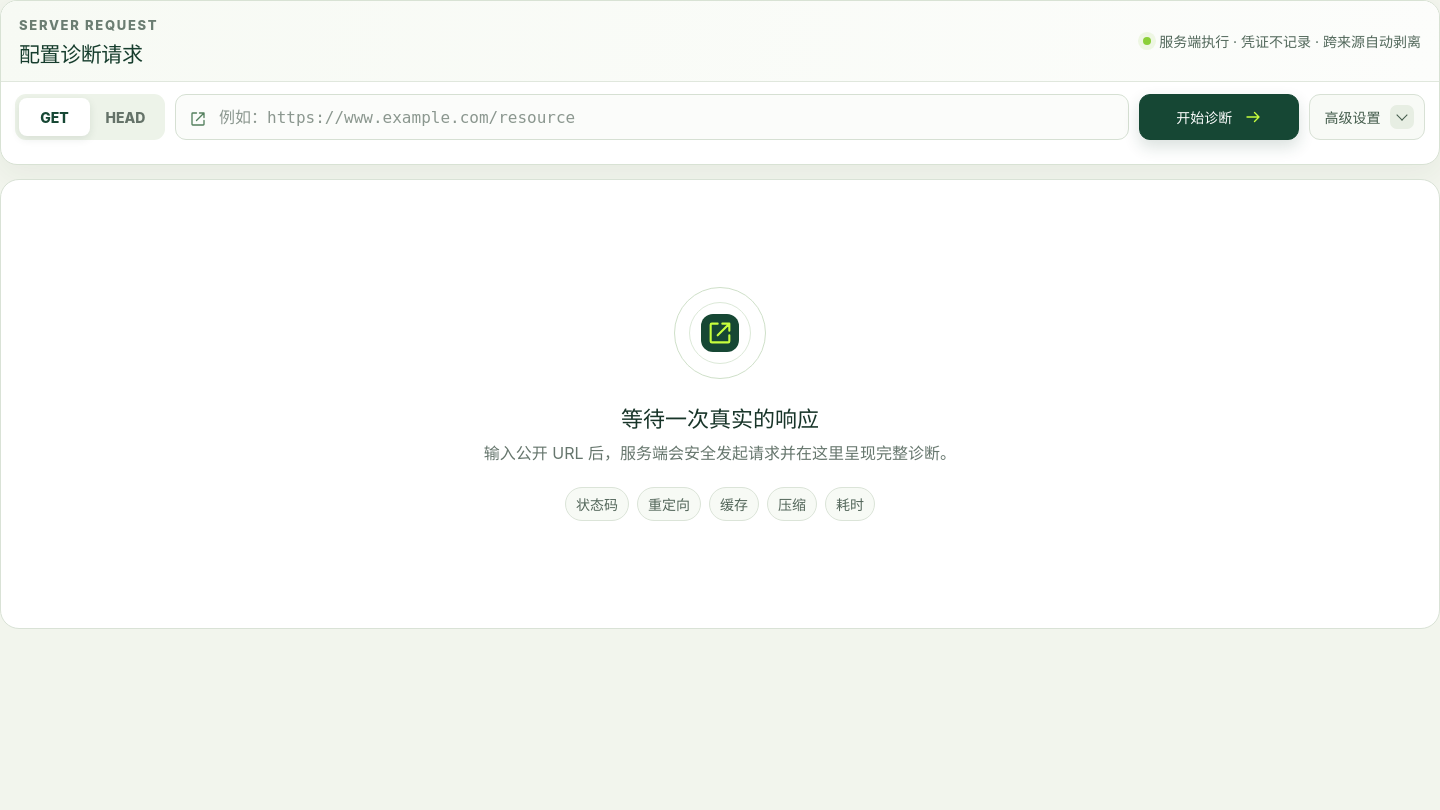
Test: HttpDiagnosticsTool › submits bounded metadata-only settings and renders diagnostics
Type "https://example.com" into the field named "目标 URL".
click(666, 117); type("https://example.com")  # box top-left (217, 96), bottom-right (1115, 138)
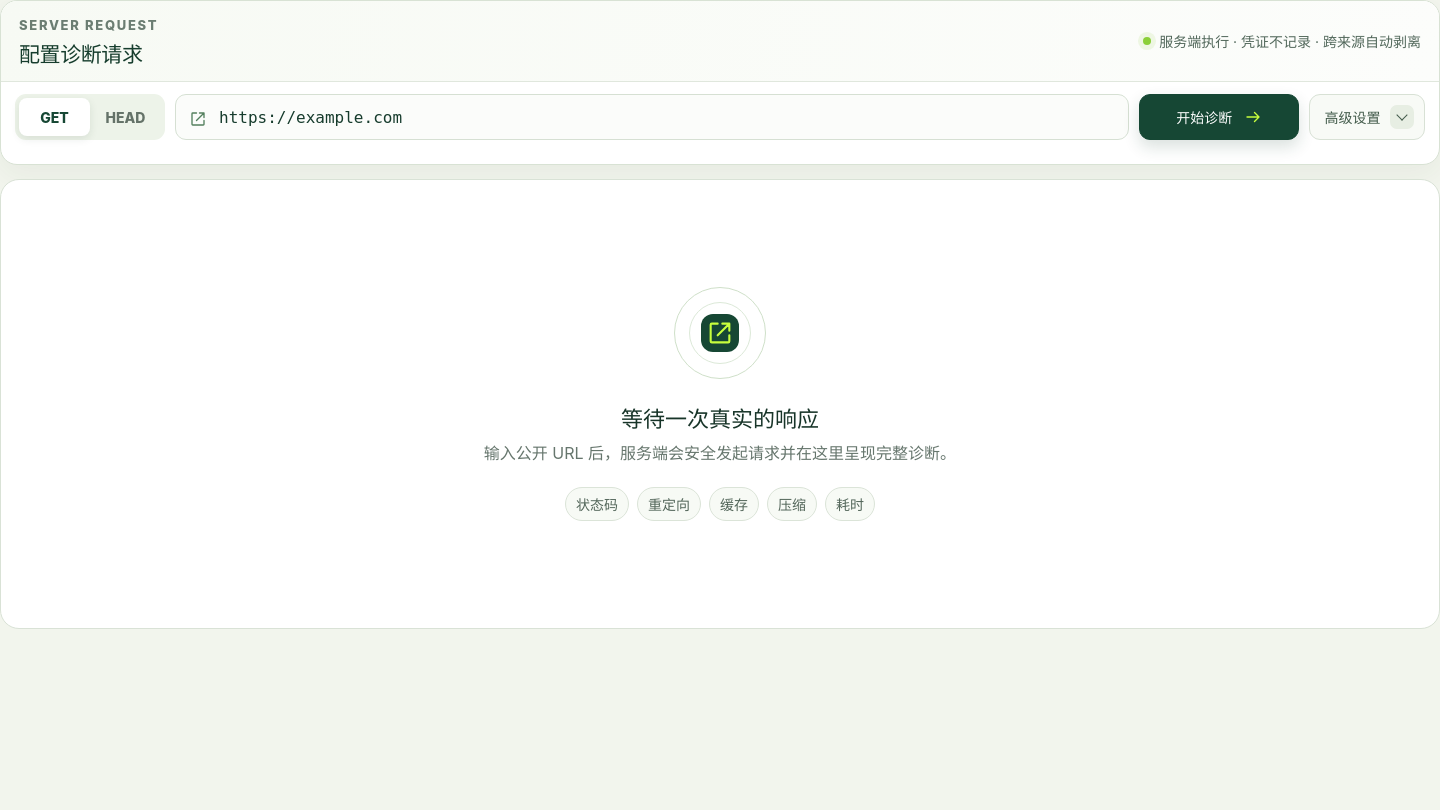
Click the button "开始诊断".
click(1219, 117)  # box top-left (1139, 94), bottom-right (1299, 140)
(page scrolled)
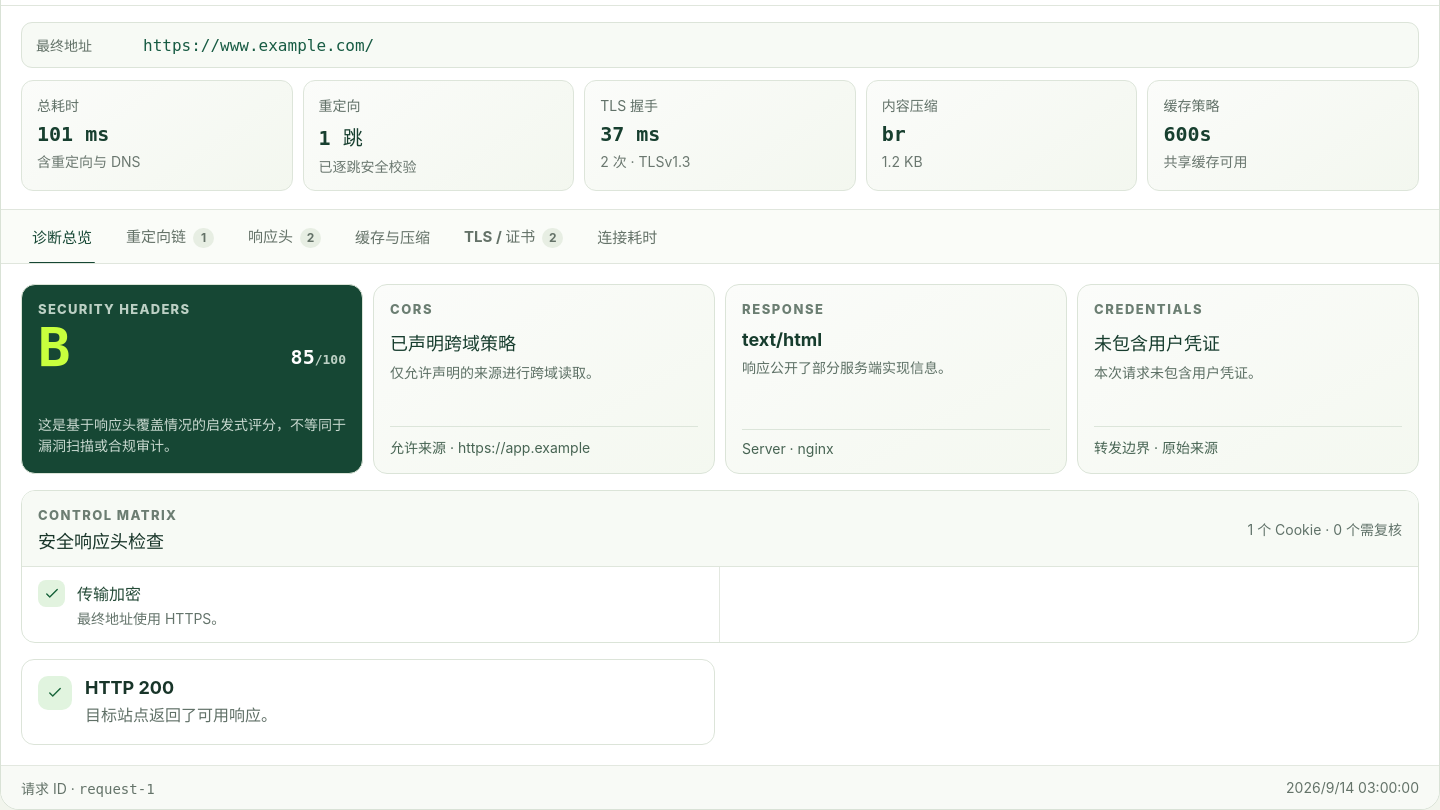
Expected: the text "101 ms" is shown, top-left (37, 122), bottom-right (109, 146)
Expected: the heading "HTTP 200" is shown, top-left (85, 677), bottom-right (174, 698)
Expected: the text "SECURITY HEADERS" is shown, top-left (38, 301), bottom-right (190, 317)
